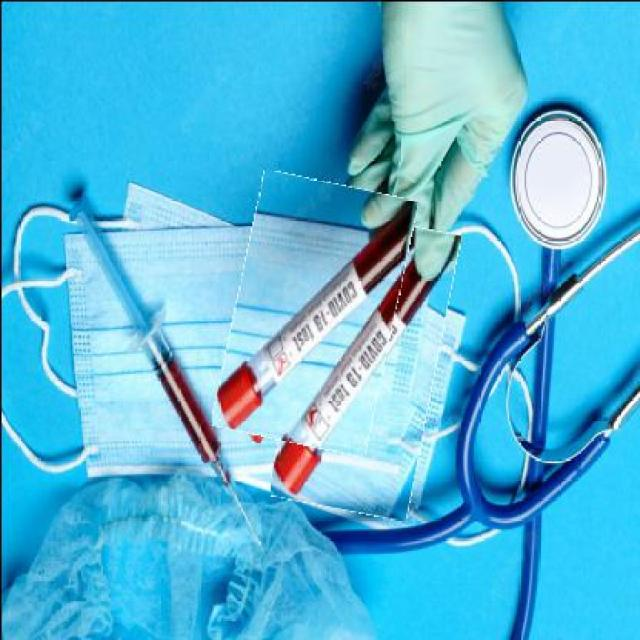Experimental-tube: (221, 174, 404, 448), (281, 214, 447, 514)
